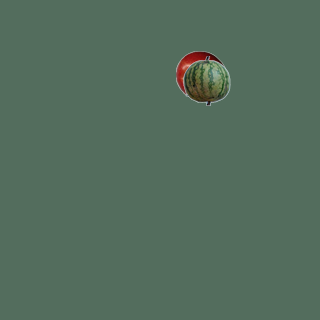Apple Braeburn: (175, 50, 225, 100)
Watermelon: (181, 55, 231, 105)
